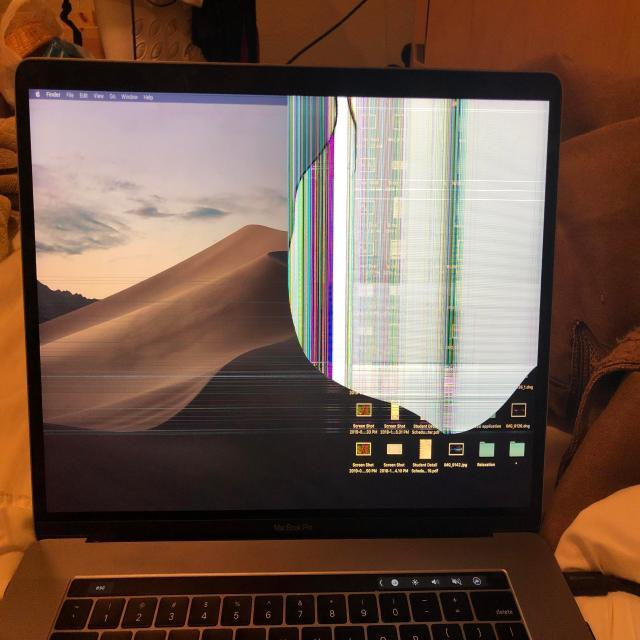Screen cracks: (280, 92, 548, 478)
